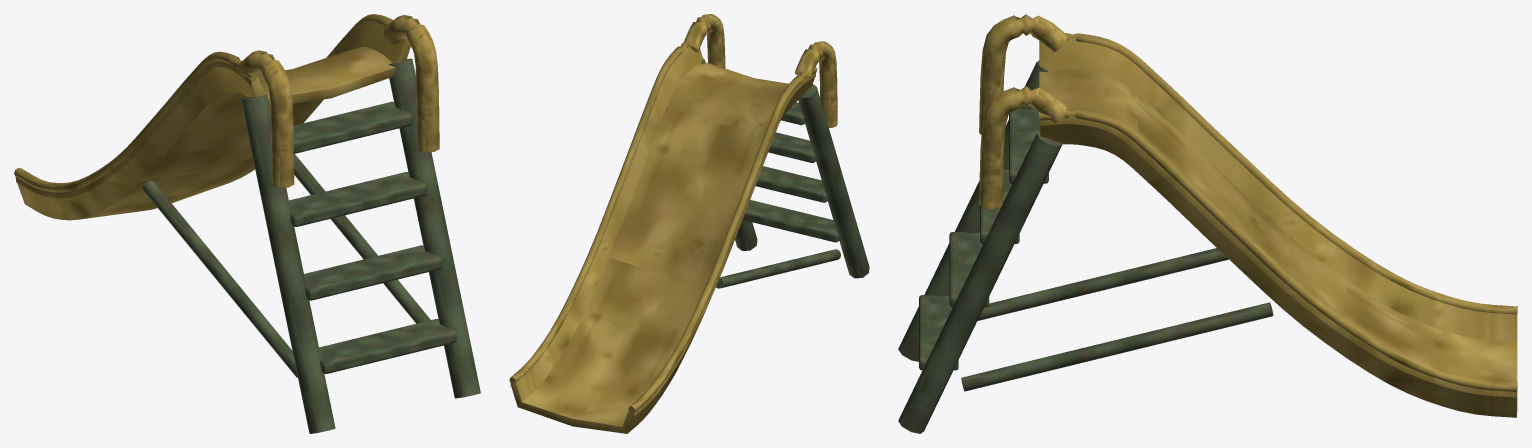
Rendered from by_slide.glb.
The picture shows the model from 3 angles, left to right: view 1: azimuth 30°, elevation 25°; view 2: azimuth 150°, elevation 25°; view 3: azimuth 270°, elevation 25°; orthographic projection. The views are drawn at different scales.
Parts seen in each view (by area): view 1: by_slide; view 2: by_slide; view 3: by_slide.
Boxes of the visible parts, x1,y1,x2,y2 form: by_slide: (14, 14, 480, 433); by_slide: (509, 14, 869, 433); by_slide: (898, 14, 1517, 433).
Bounding box in the file's own units: 0.572 × 1.1 × 1.79.
1 material, 1 textured.
